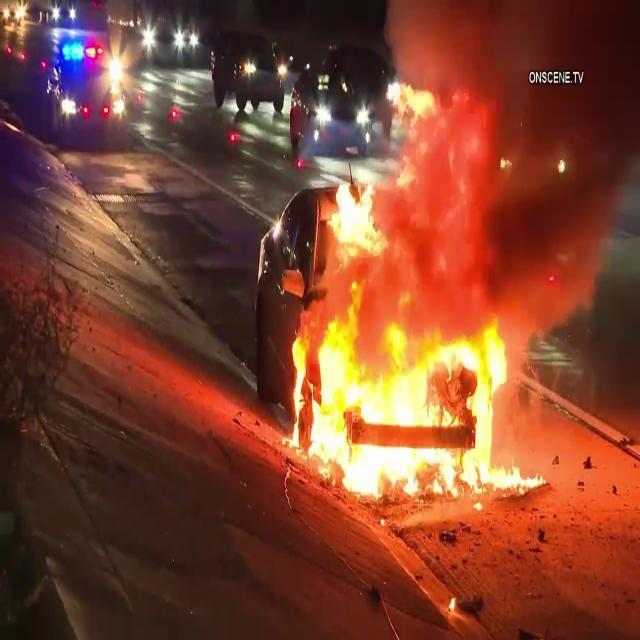Fire: (298, 345, 554, 499), (322, 168, 381, 282)
Smoke: (387, 0, 640, 354)
